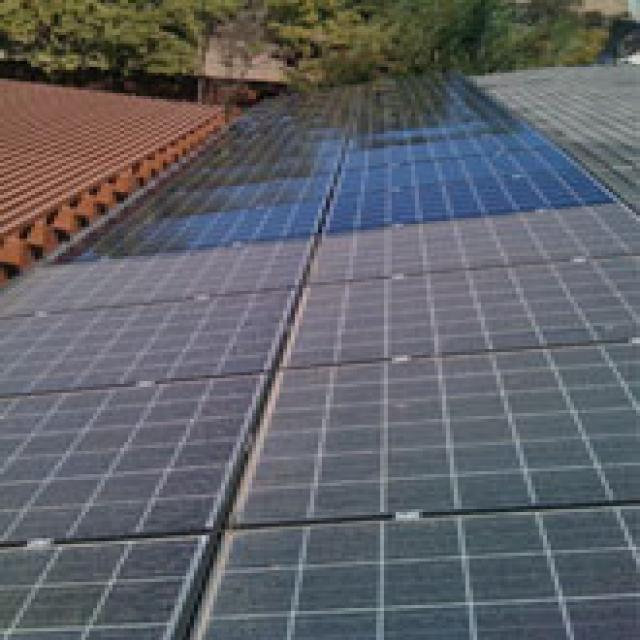dust-solar-panel: (0, 199, 640, 640)
